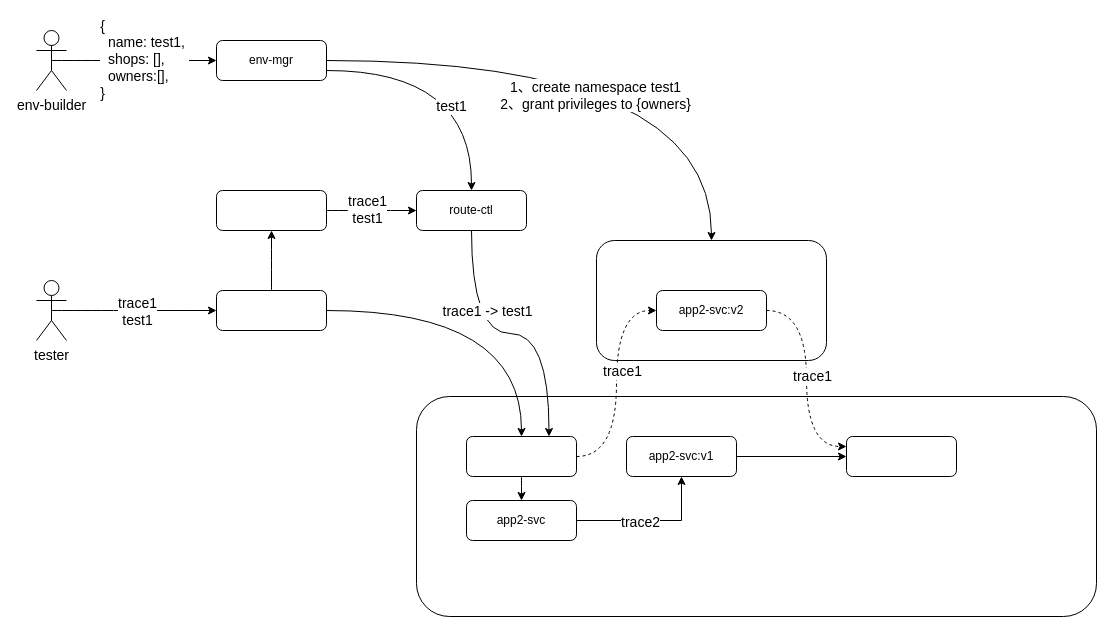
Image size: 1114x634. Some labels were removed from this diagram. The centre of each missing label's shape, as x and y in pixels:
"app3-svc" belongs at [901,456].
"sidecar" belongs at [521,456].
"traefik" belongs at [271,310].
"traefik-plugin" belongs at [271,210].
